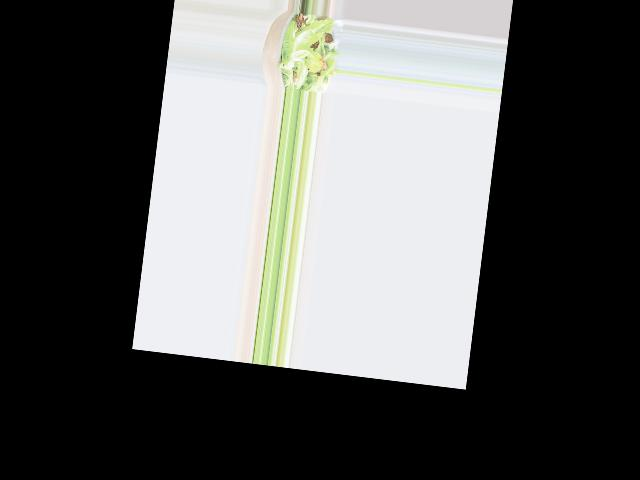lettuce: (277, 18, 339, 90)
